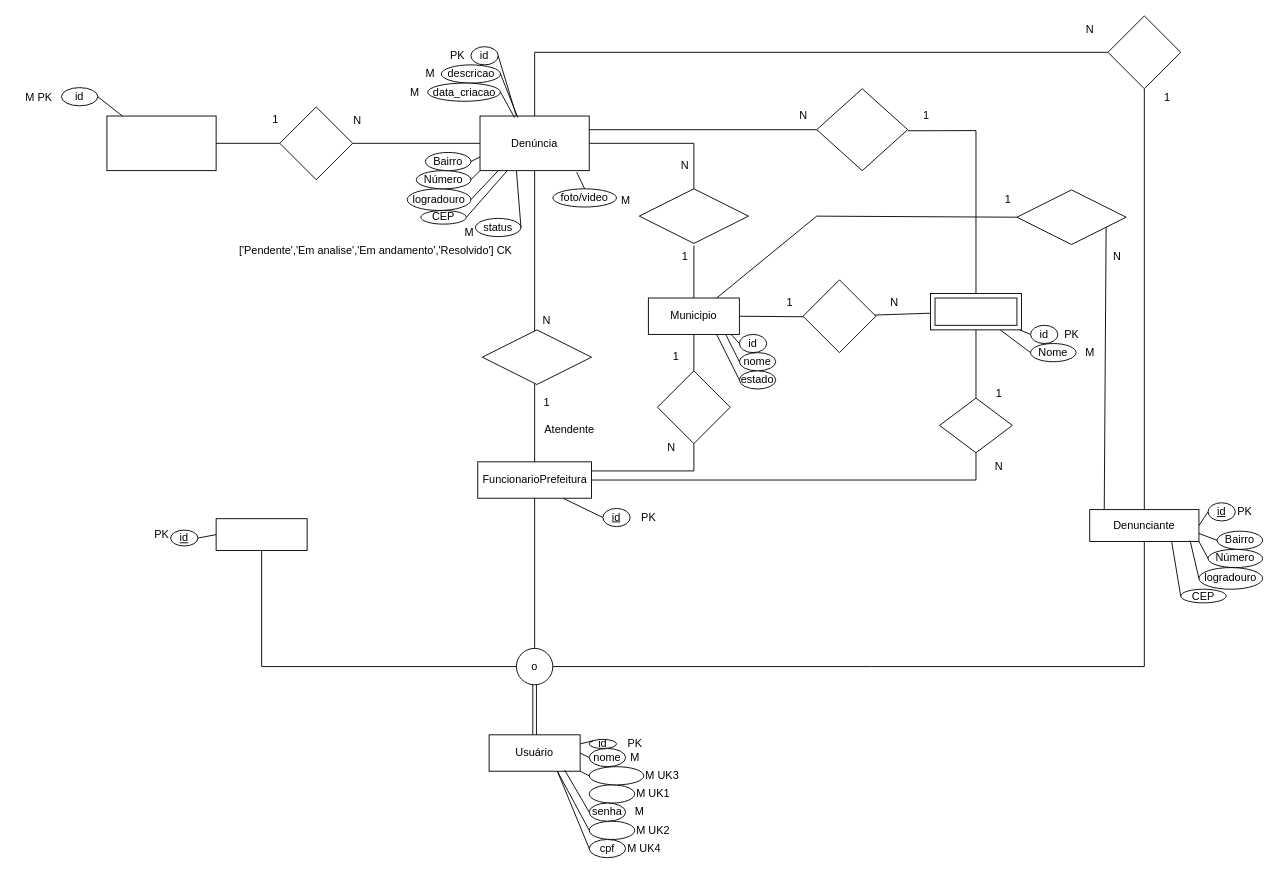
Some shapes in this 1279 by 878 pixel diagram are drawn without their labels. Each missing label, with the centre of its shape:
"Administrador" belongs at [261,534].
"Atendida" belongs at [536,356].
"Classifica" belongs at [316,143].
"Classificação" belongs at [161,143].
"email" belongs at [611,793].
"Enviada Para" belongs at [862,129].
"Ocorre em" belongs at [693,215].
"Pertence" belongs at [839,316].
"realiza" belongs at [1144,52].
"reside" belongs at [1071,217].
"Secretaria" belongs at [975,311].
"telefone" belongs at [611,829].
"Trabalha em" belongs at [975,425].
"username" belongs at [616,775].
"é de" belongs at [693,407].
